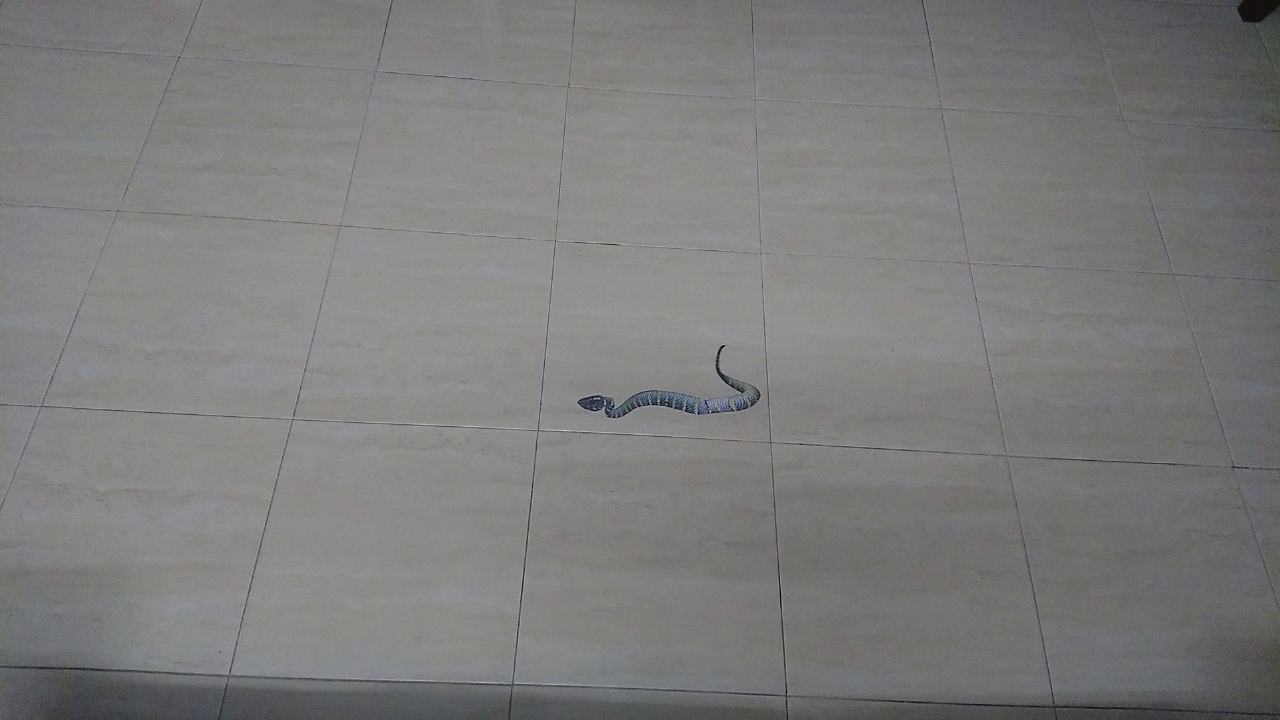snake: (560, 328, 777, 436)
